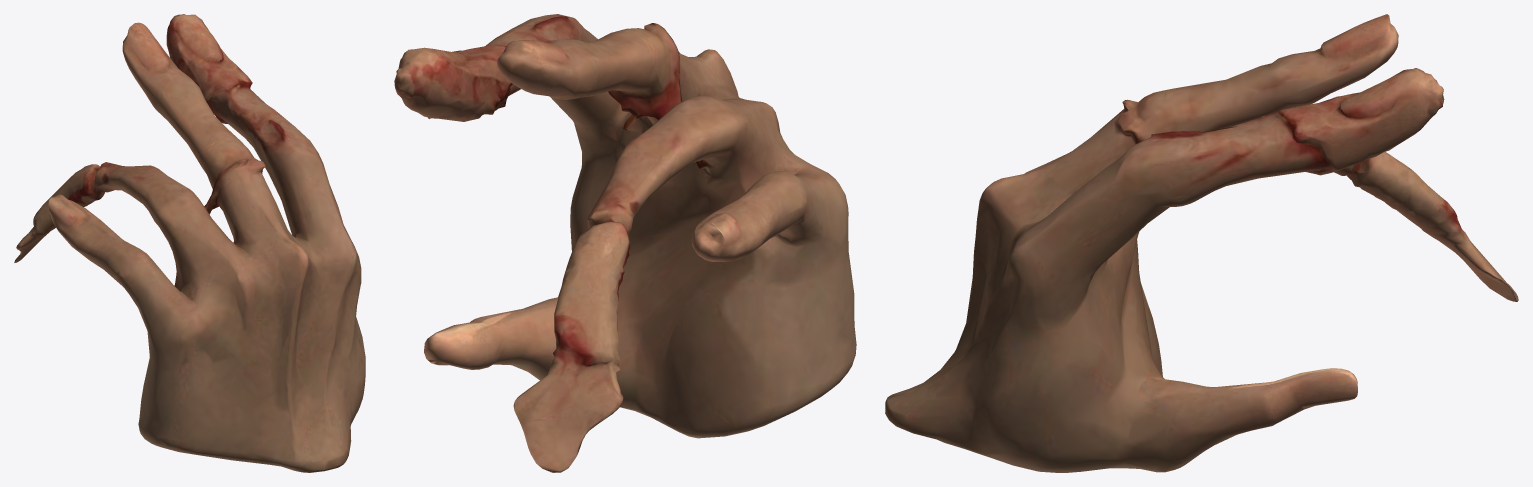
The model's file is fingers.glb.
3 views of the same model, side by side, from view 1: azimuth 30°, elevation 25°; view 2: azimuth 150°, elevation 25°; view 3: azimuth 270°, elevation 25° (orthographic). The views are drawn at different scales.
Visible parts, largest first — view 1: Mesh_0; view 2: Mesh_0; view 3: Mesh_0.
Part boxes in pixels (left/top/right/bottom): Mesh_0: left=14, top=14, right=365, bottom=472; Mesh_0: left=394, top=14, right=856, bottom=472; Mesh_0: left=885, top=14, right=1518, bottom=472.
Bounding box in the file's own units: 0.9326 × 1.47 × 1.9.
Materials: 1 (1 with a texture image).
